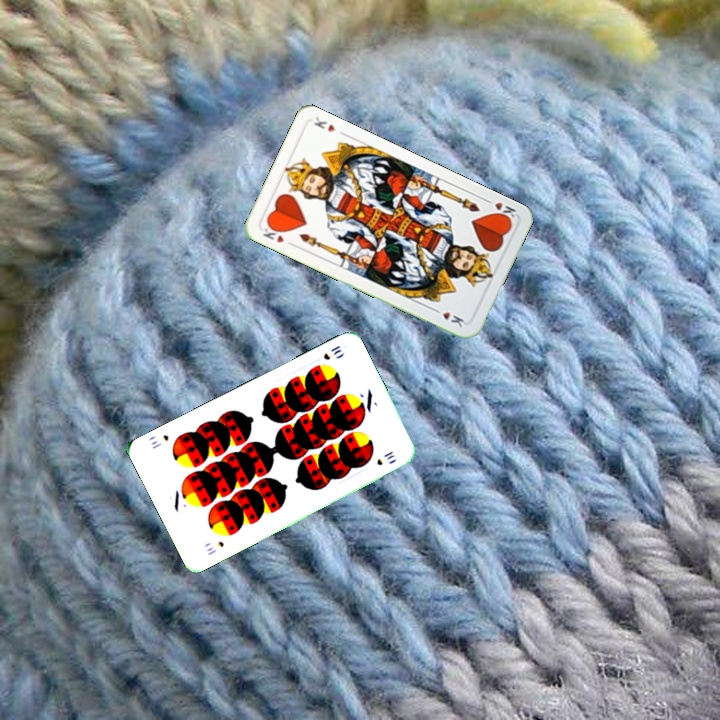HK: (481, 195, 519, 224), (259, 220, 287, 246)
S10: (319, 341, 344, 363), (203, 537, 227, 558)
